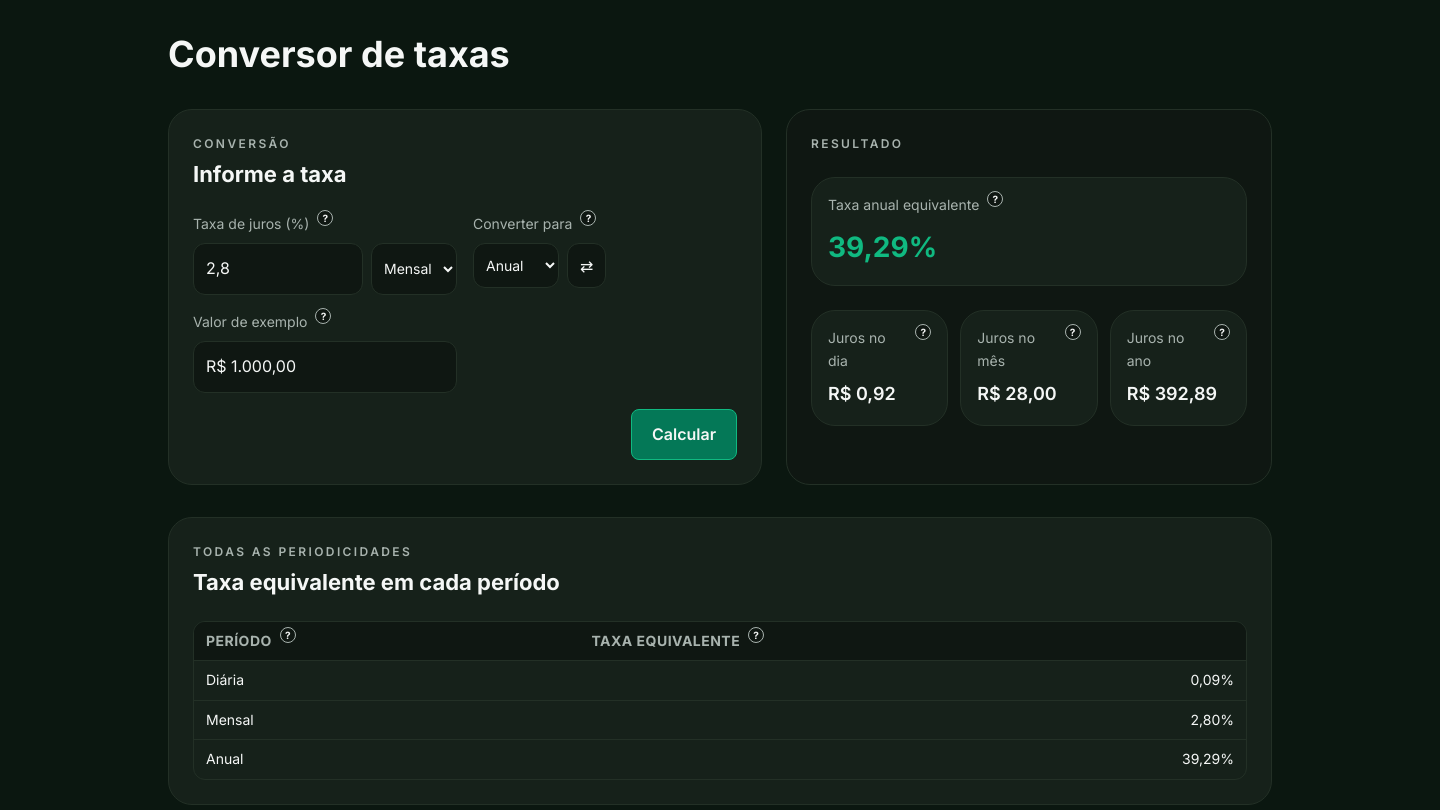
Test: RateConverter › rejects overflow while preserving the last finite calculation
Replace the text in the field labelled "Taxa de juros (%)" with "9999999999999999999": (278,269) [193,243,363,295]
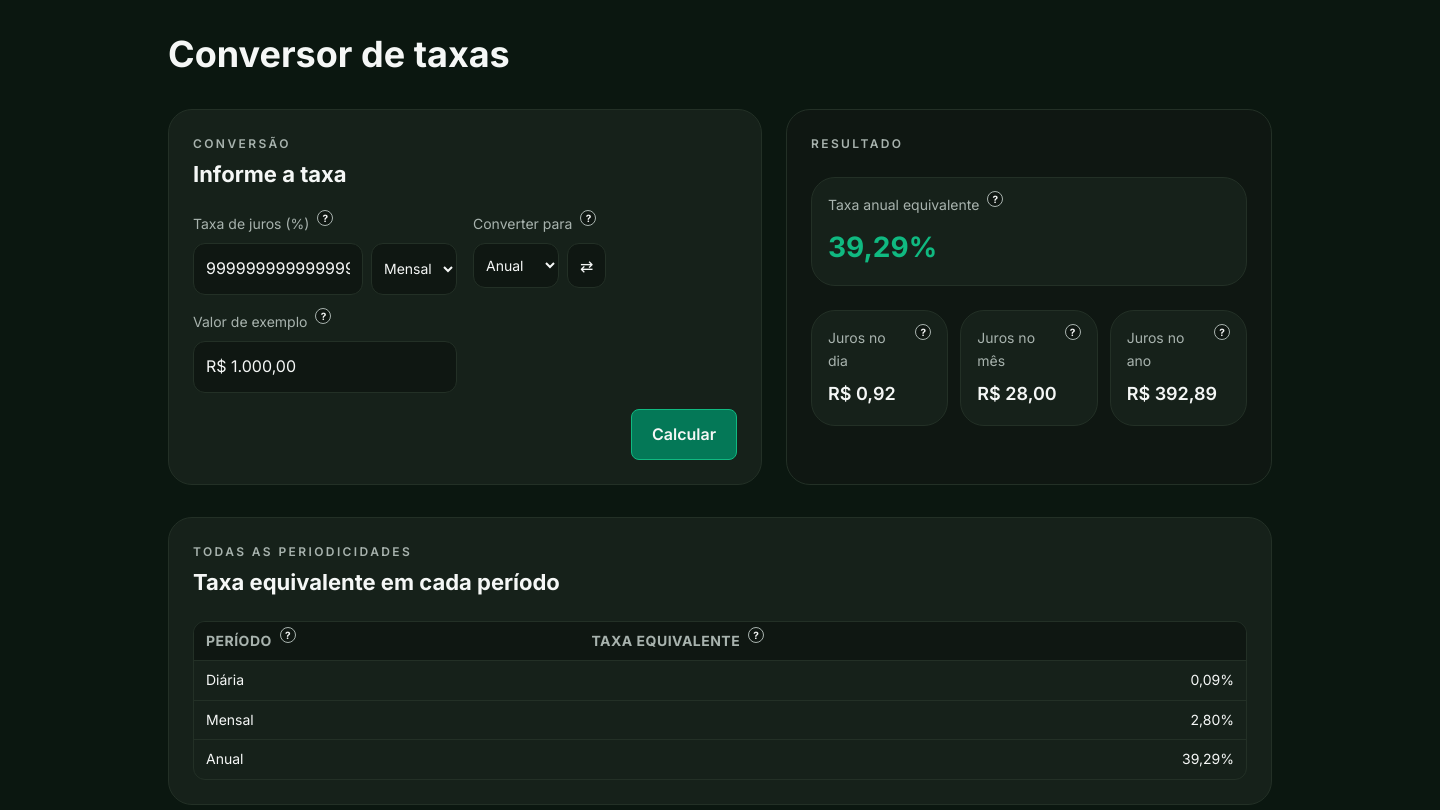
Select "Diária" in the dropdown named "Periodicidade da taxa": (414,269) [371,243,457,295]
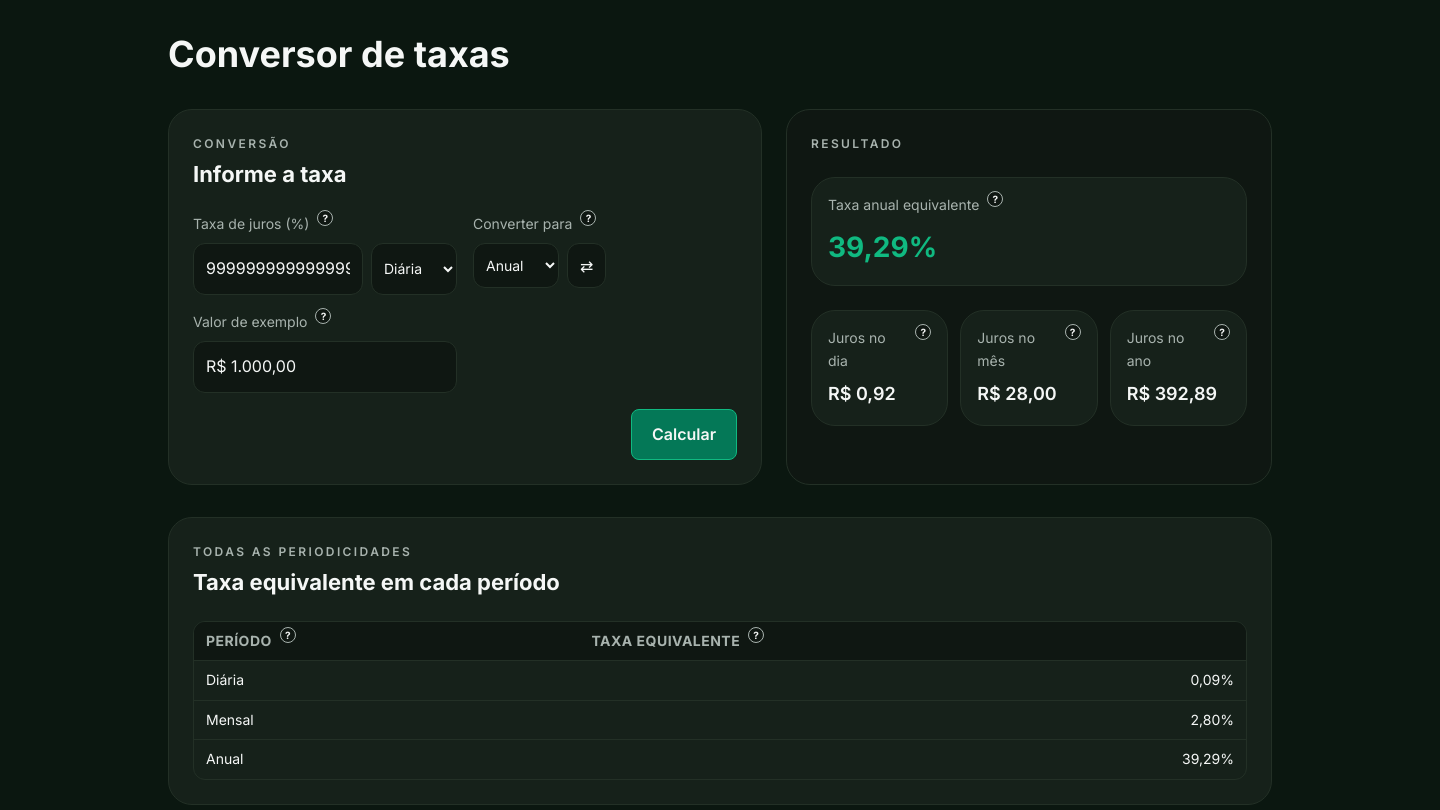
Click the button "Calcular": (684,434) [631,409,737,460]
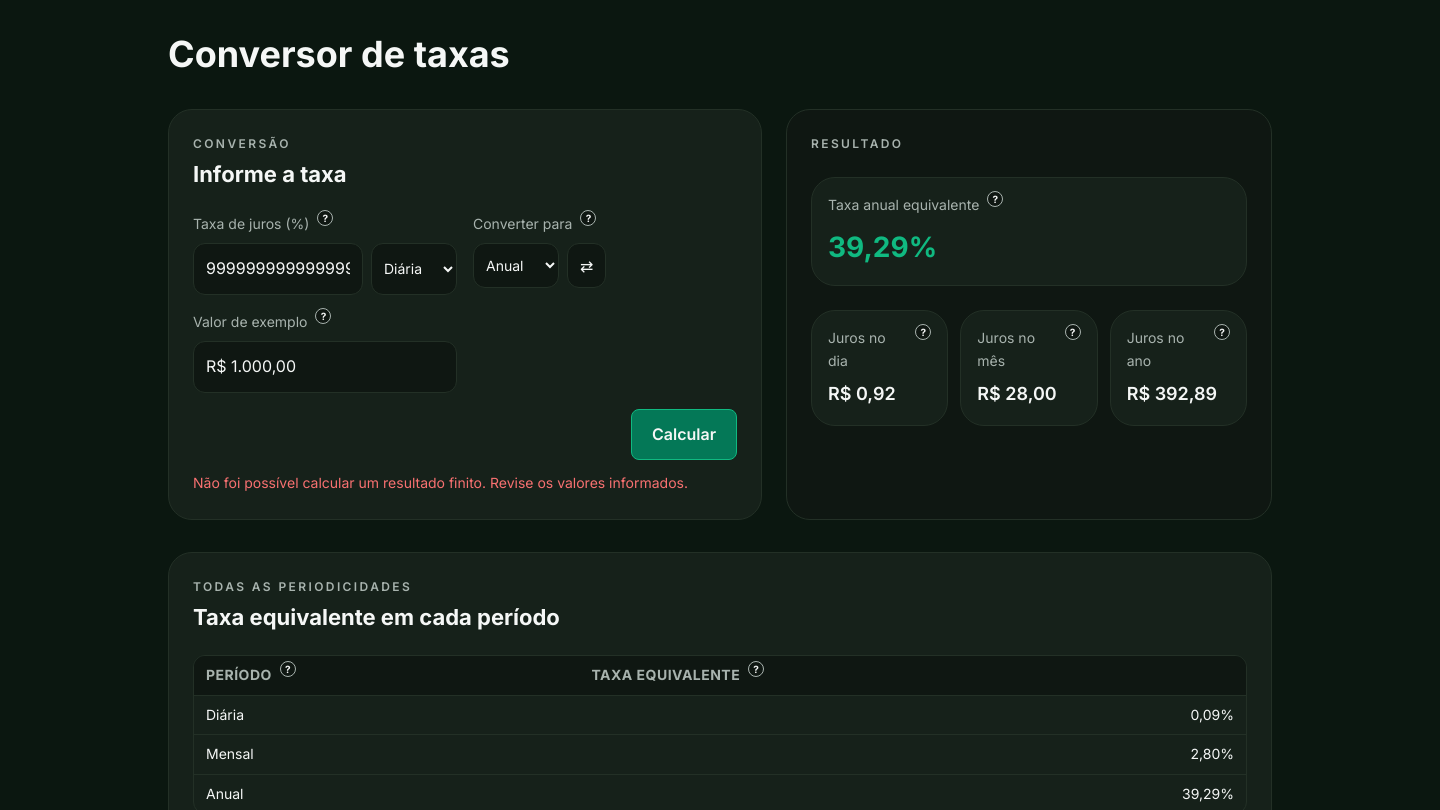
Check: the text "39,29%" is shown, box [828,230,937,264]
Check: the message shows "resultado finito", box [193,474,688,491]
